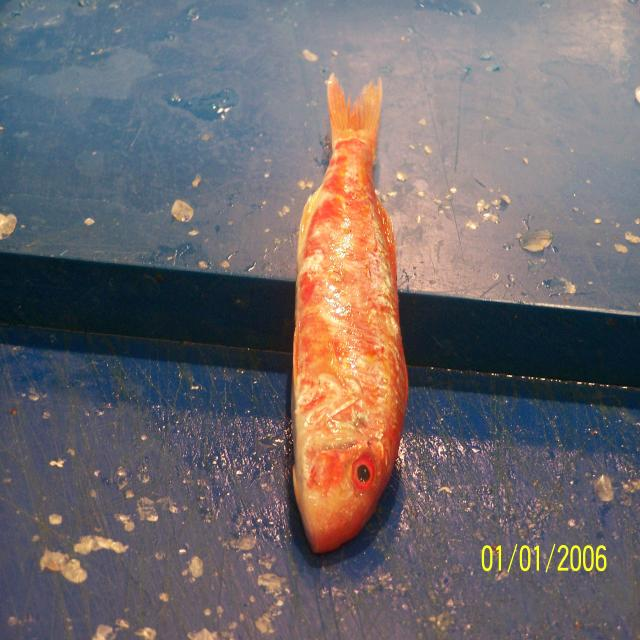Red-Mullet-kefal-: (289, 78, 409, 558)
